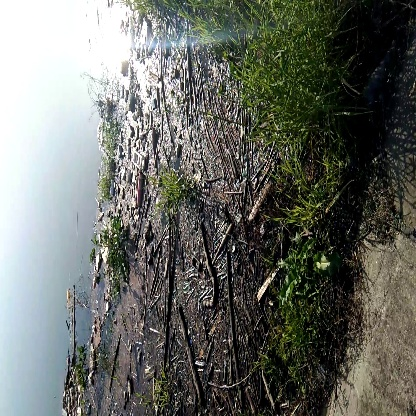branch: (170, 301, 216, 402)
